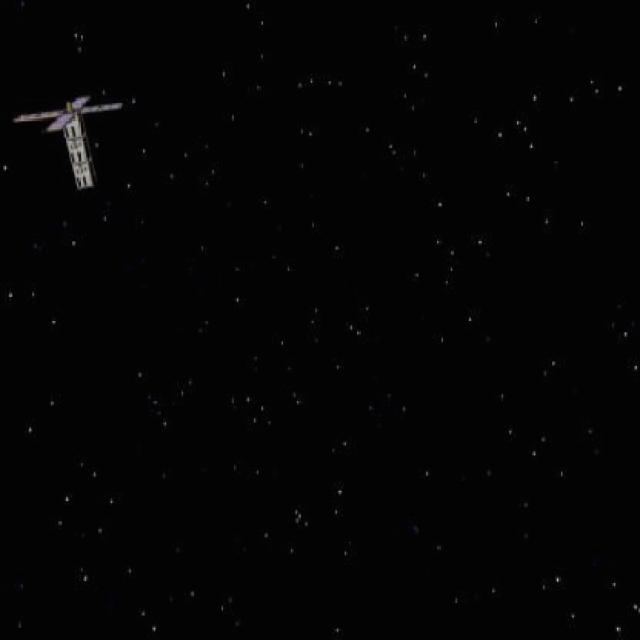satellite: (20, 90, 138, 192)
